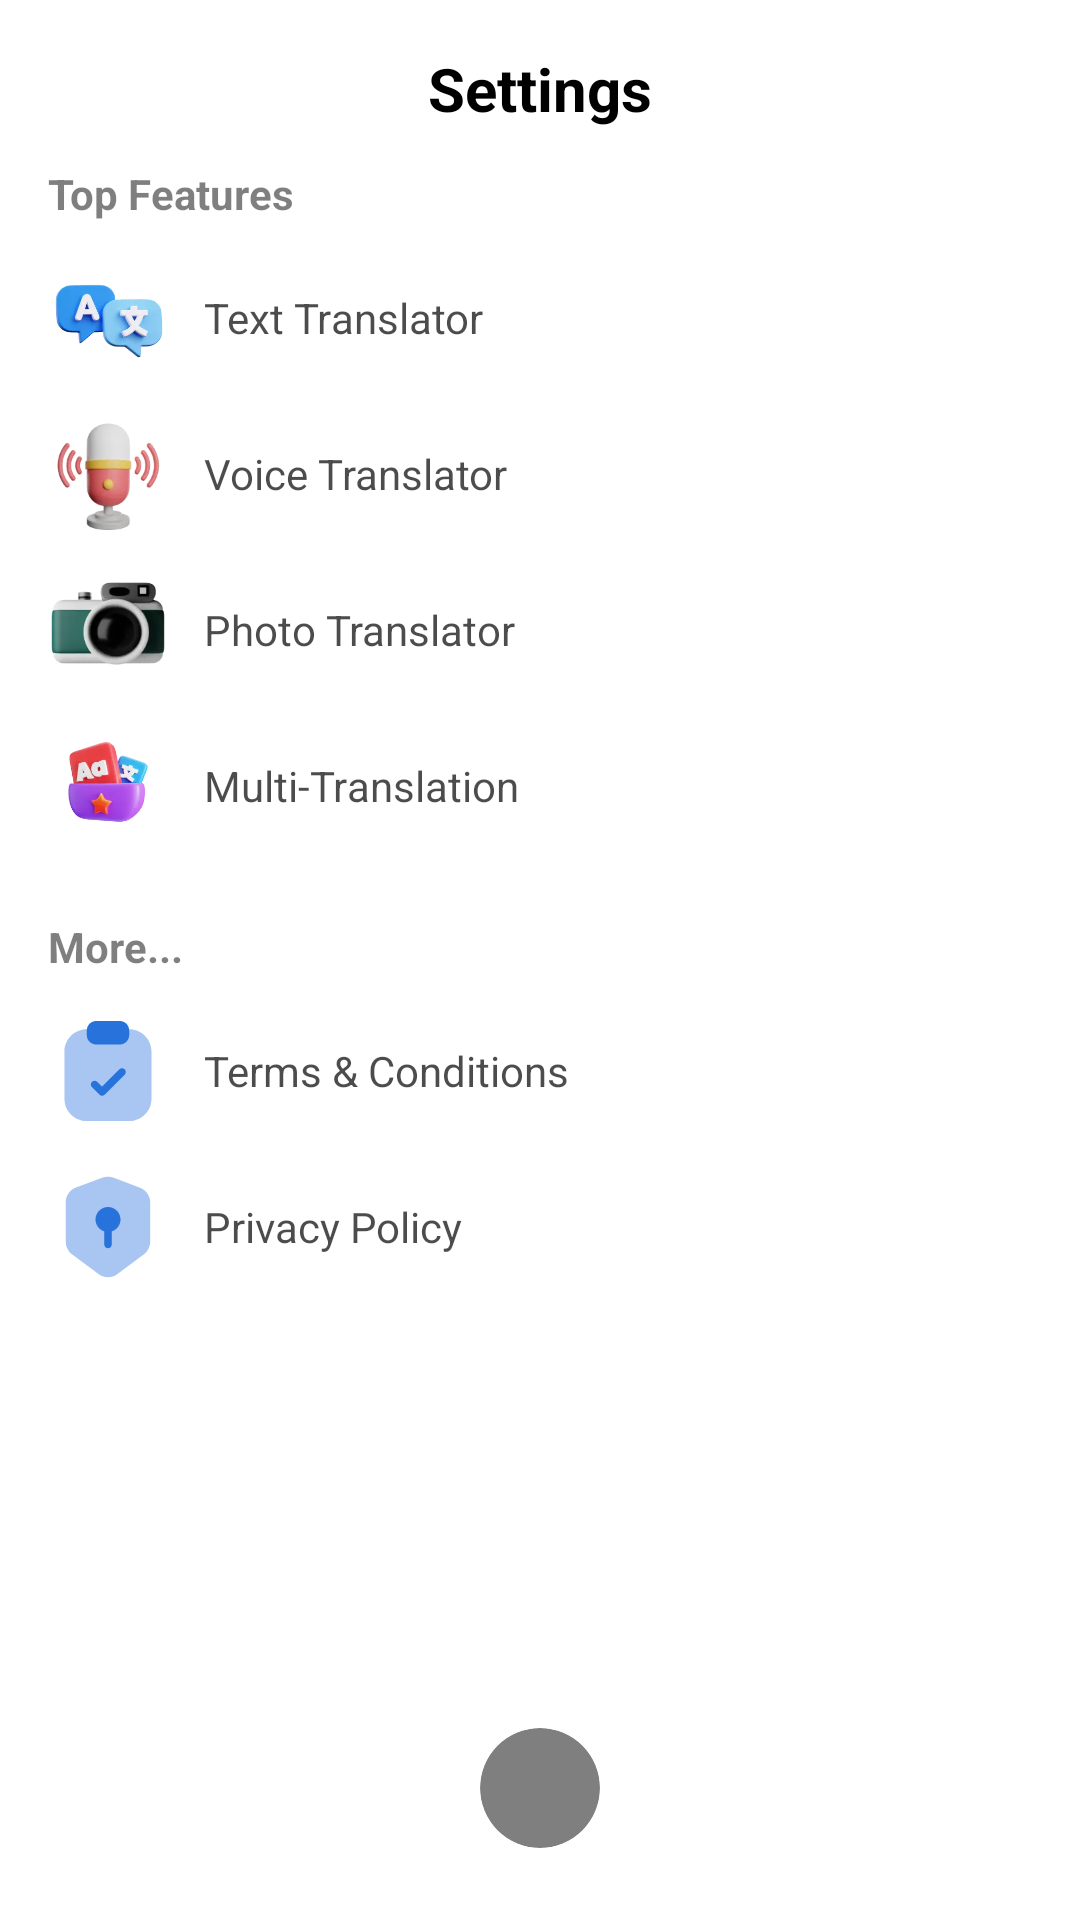

Icon bounding boxes for this 1080 × 1920 phone screenshot, format (x1, y1, x2, y2):
multi translate: (68, 742, 148, 822)
photo camera: (51, 582, 165, 665)
translate: (56, 285, 162, 358)
